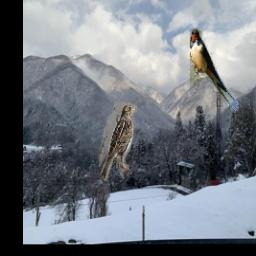Sparrow: (99, 103, 137, 182)
Swallow: (191, 29, 240, 111)
